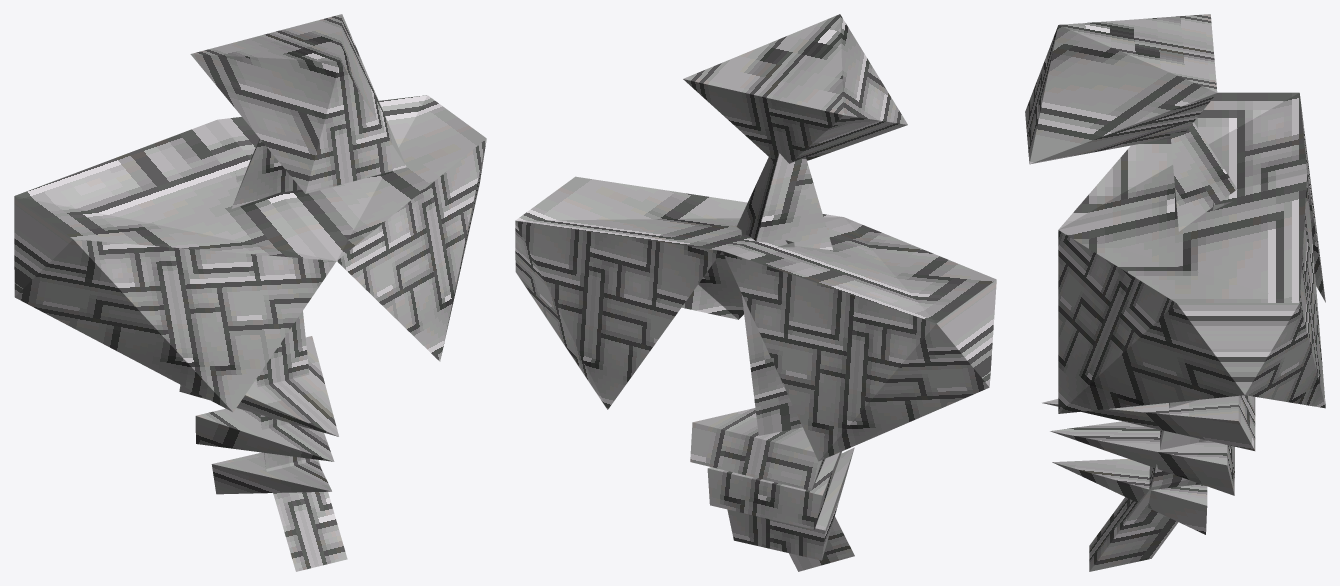
File: FrameTorsoSkel.glb
The picture shows the model from 3 angles, left to right: view 1: azimuth 30°, elevation 25°; view 2: azimuth 150°, elevation 25°; view 3: azimuth 270°, elevation 25°; orthographic projection. The views are drawn at different scales.
Visible parts, largest first — view 1: FrameTorsoSkel_part00, FrameTorsoSkel_part01; view 2: FrameTorsoSkel_part00, FrameTorsoSkel_part01; view 3: FrameTorsoSkel_part00, FrameTorsoSkel_part01.
Boxes of the visible parts, box(x1,y1,x2,y2) form: FrameTorsoSkel_part00: box(14, 95, 486, 571); FrameTorsoSkel_part01: box(190, 14, 406, 193); FrameTorsoSkel_part00: box(515, 153, 996, 571); FrameTorsoSkel_part01: box(683, 14, 907, 163); FrameTorsoSkel_part00: box(1042, 92, 1325, 571); FrameTorsoSkel_part01: box(1025, 14, 1217, 164).
Size of the model in its own units: 9 by 9.5 by 4.83.
1 material, 1 textured.
